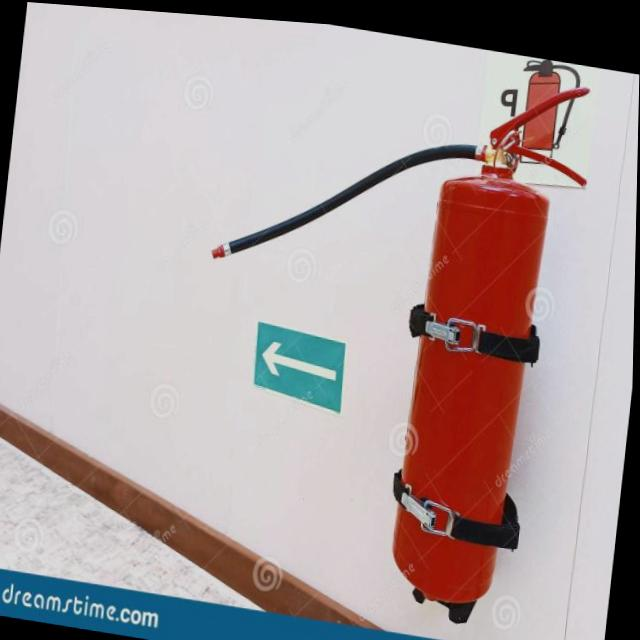FireExtinguisher: (173, 20, 605, 633)
